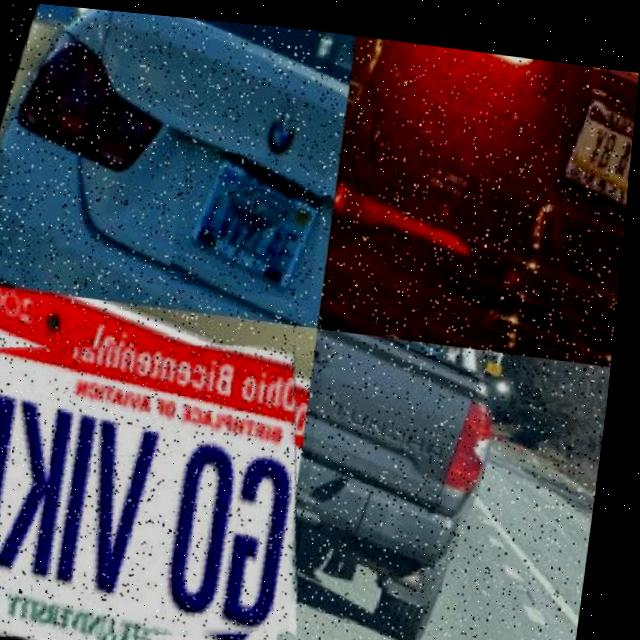LicensePlate: (0, 313, 331, 640), (173, 142, 330, 294), (558, 84, 636, 195)
